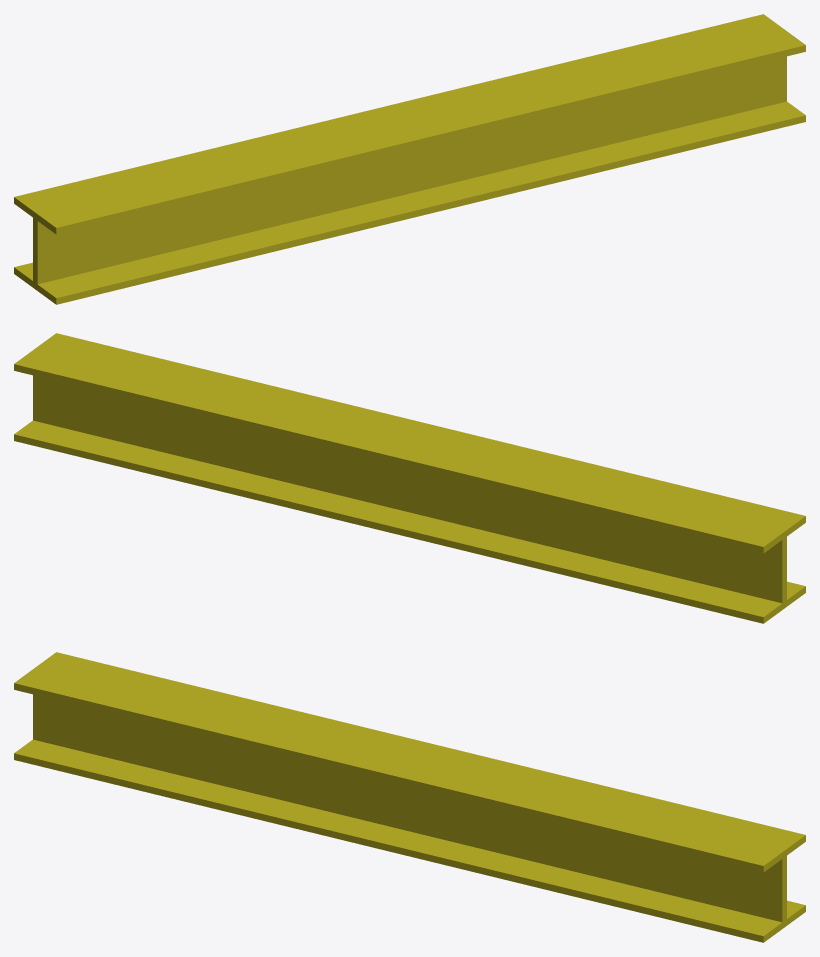
Rendered from mesh_Girder1_v2.fbx.
3 views of the same model, one above another, from view 1: azimuth 30°, elevation 25°; view 2: azimuth 150°, elevation 25°; view 3: azimuth 330°, elevation 25° (orthographic).
Parts seen in each view (by area): view 1: mesh_Girder1_v2_0; view 2: mesh_Girder1_v2_0; view 3: mesh_Girder1_v2_0.
Part boxes in pixels (bbox=[...]): mesh_Girder1_v2_0: bbox=[14, 14, 805, 304]; mesh_Girder1_v2_0: bbox=[14, 333, 805, 623]; mesh_Girder1_v2_0: bbox=[14, 652, 805, 942].
Size of the model in its own units: 433 by 42.44 by 42.44.
